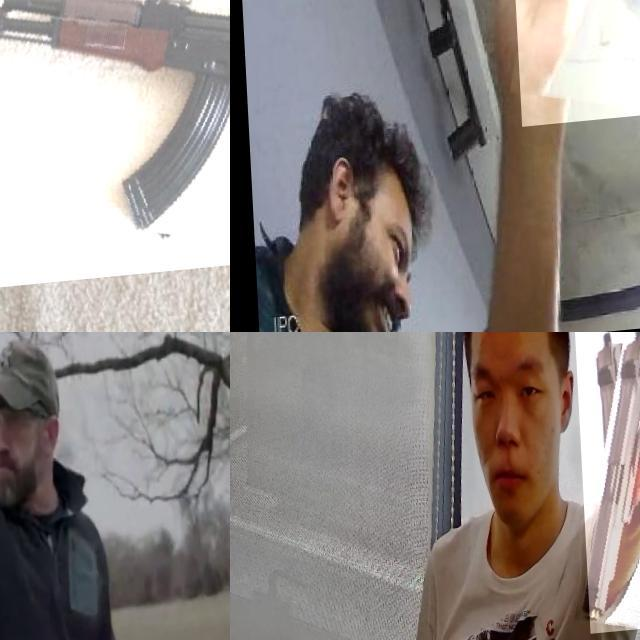-: (508, 0, 640, 132)
gun-knife-thesis - v11 Yolov5 augmented: (0, 0, 230, 299), (573, 332, 640, 640), (0, 332, 77, 550)
